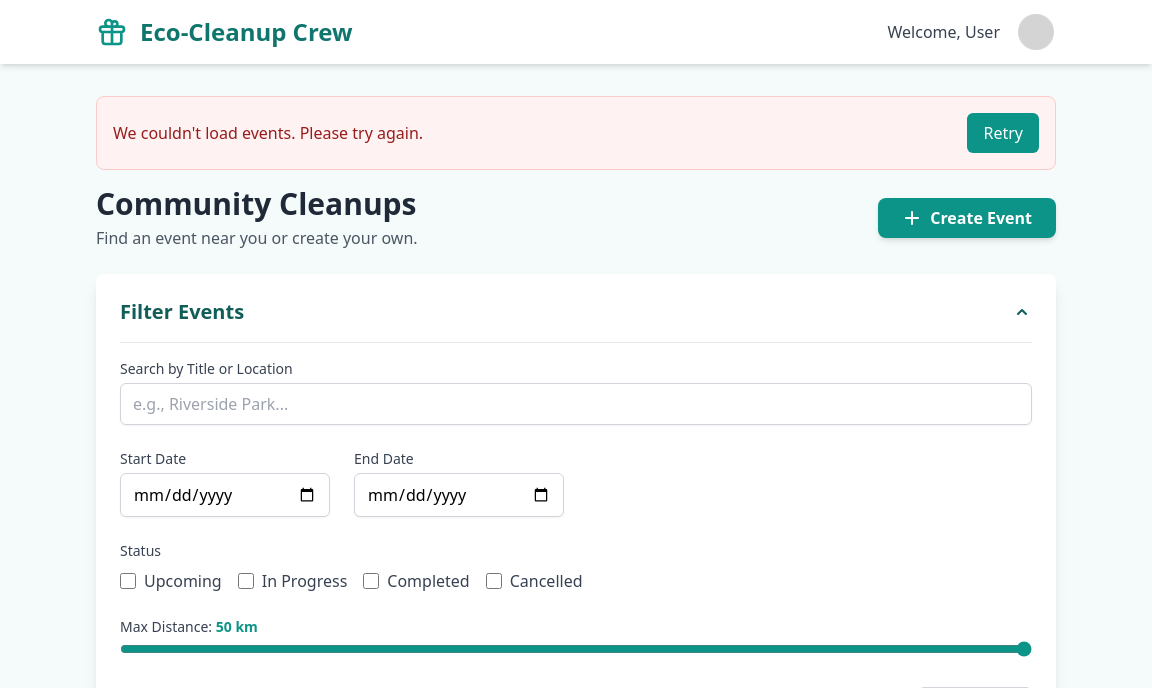
Test: App events error handling › shows an error banner and allows retry
Expected: the message shows "We couldn't load events", 113,122 -> 423,144
// Click retry
Click the button "Retry" at coordinates (1003, 133), box 968,113 -> 1039,153
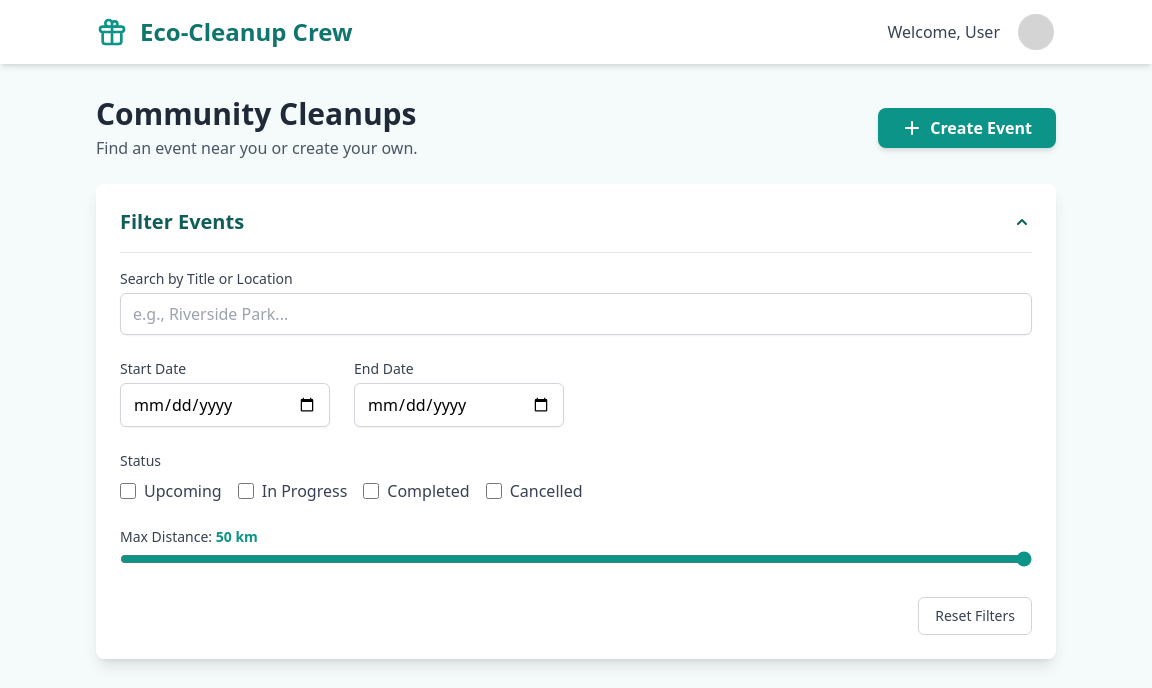
Now the message "We couldn't load events. Please try again. Retry" is gone
